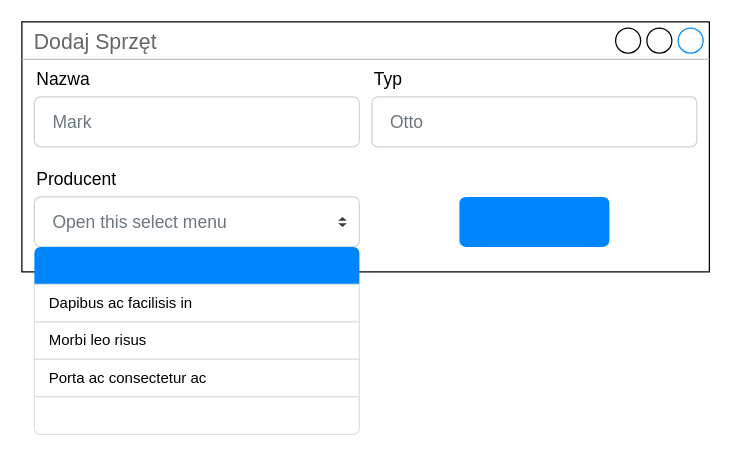
The diagram is 731 pixels wide and 456 high, and some of its shapes have lost their labels. The shapes that lost their labels are listed below. From the top down, each one's centre as x and y in pixels, then its label:
At point (534, 221): "Dodaj".
At point (196, 265): "Cras justo odio".
At point (196, 415): "Vestibulum at eros".
